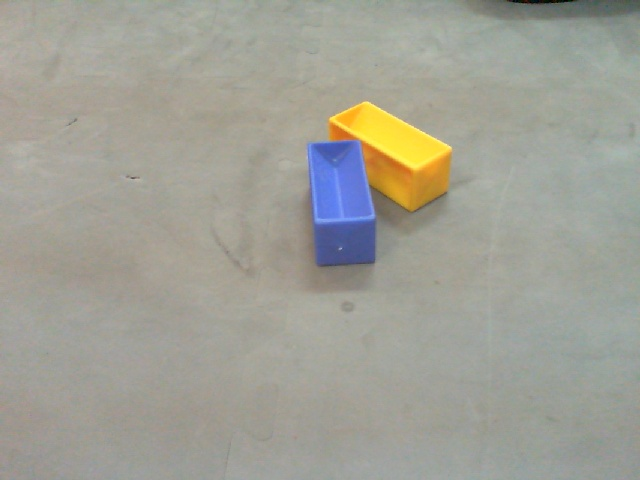BlueSample: (305, 138, 379, 270)
YellowSample: (322, 95, 458, 214)
